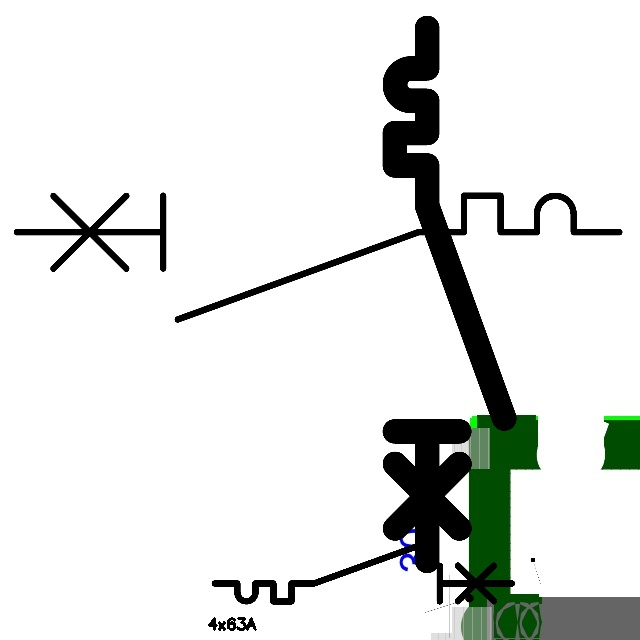interruptor_termomagnetico: (1, 180, 635, 335), (381, 14, 518, 574), (207, 533, 519, 609)
